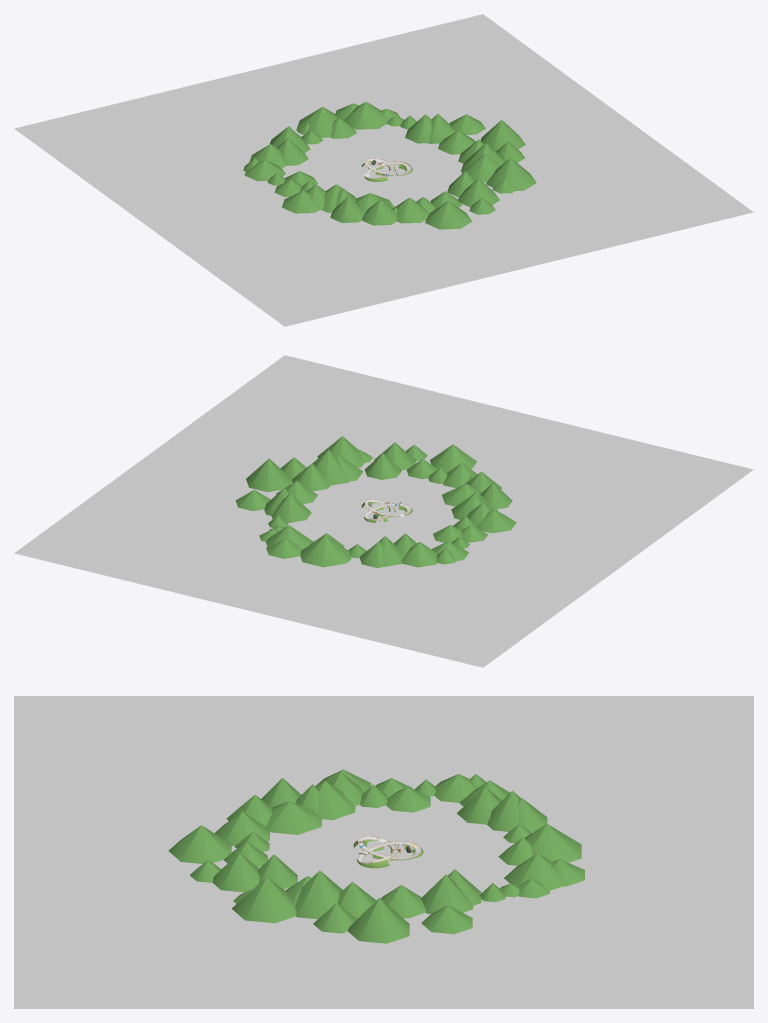
The model's file is bake.glb.
3 renders of one model, top to bottom at view 1: azimuth 30°, elevation 25°; view 2: azimuth 150°, elevation 25°; view 3: azimuth 270°, elevation 25°, orthographic. The views are drawn at different scales.
Visible parts, largest first — view 1: bk0062, bk0068, bk0074, bk0100, bk0097, bk0063, bk0071, bk0076, bk0078, bk0080, bk0084, bk0067 (+4 smaller); view 2: bk0062, bk0097, bk0063, bk0074, bk0066, bk0104, bk0091, bk0070, bk0068, bk0064, bk0084, bk0100; view 3: bk0062, bk0068, bk0063, bk0074, bk0066, bk0097, bk0079, bk0071, bk0100, bk0105, bk0082, bk0106 (+15 smaller).
Part boxes in pixels (<box>): bk0062: <box>14,14,753,326</box>; bk0068: <box>486,158,536,190</box>; bk0074: <box>425,201,472,229</box>; bk0100: <box>344,101,388,129</box>; bk0097: <box>296,107,342,137</box>; bk0063: <box>480,120,525,151</box>; bk0071: <box>458,178,499,207</box>; bk0076: <box>393,197,429,223</box>; bk0078: <box>362,199,396,225</box>; bk0080: <box>330,196,364,222</box>; bk0084: <box>282,190,318,213</box>; bk0067: <box>462,154,499,182</box>; bk0062: <box>14,355,753,667</box>; bk0097: <box>300,535,350,567</box>; bk0063: <box>246,458,292,492</box>; bk0074: <box>430,444,476,472</box>; bk0066: <box>312,450,348,485</box>; bk0104: <box>271,493,311,522</box>; bk0091: <box>401,542,437,567</box>; bk0070: <box>364,453,401,479</box>; bk0068: <box>317,436,364,467</box>; bk0064: <box>292,463,330,491</box>; bk0084: <box>476,509,516,533</box>; bk0100: <box>266,525,313,549</box>; bk0062: <box>14,696,753,1008</box>; bk0068: <box>231,876,296,923</box>; bk0063: <box>348,898,409,943</box>; bk0074: <box>168,825,231,863</box>; bk0066: <box>295,870,342,919</box>; bk0097: <box>525,824,581,862</box>; bk0079: <box>266,801,321,834</box>; bk0071: <box>212,852,259,892</box>; bk0100: <box>504,853,563,890</box>; bk0105: <box>421,874,473,913</box>; bk0082: <box>316,780,355,820</box>; bk0106: <box>421,905,472,934</box>.
Bounding box in the file's own units: 4000 × 221 × 4000.
